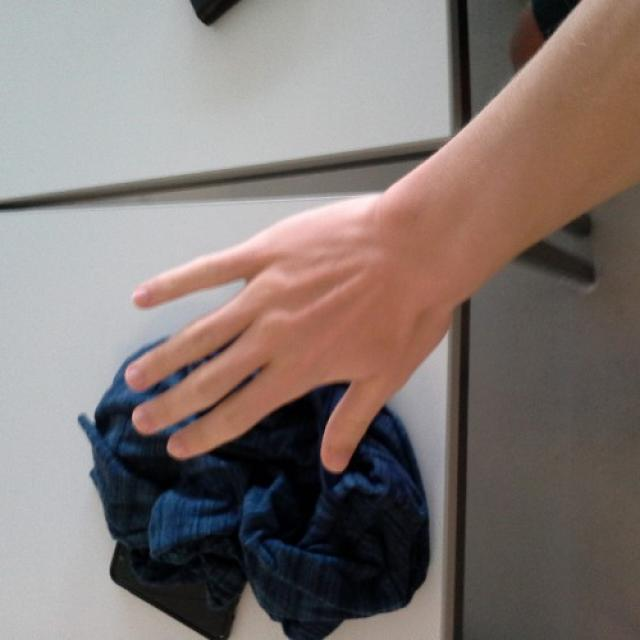paper: (124, 200, 455, 476)
